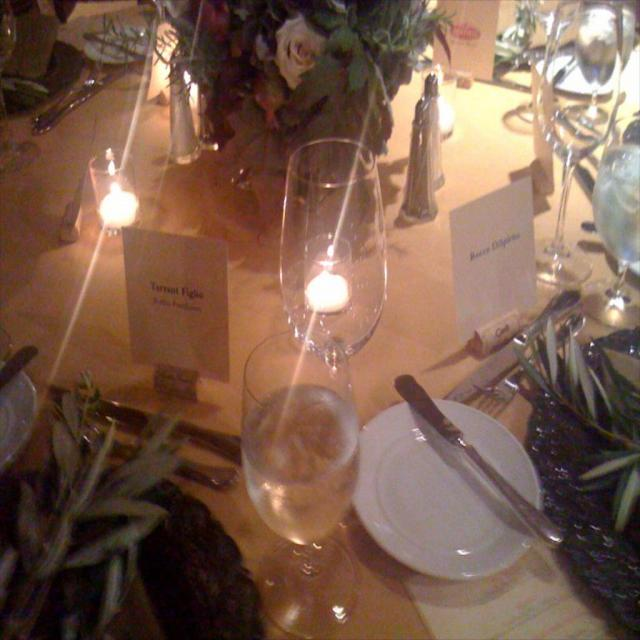non-organic waste: (339, 370, 570, 612)
